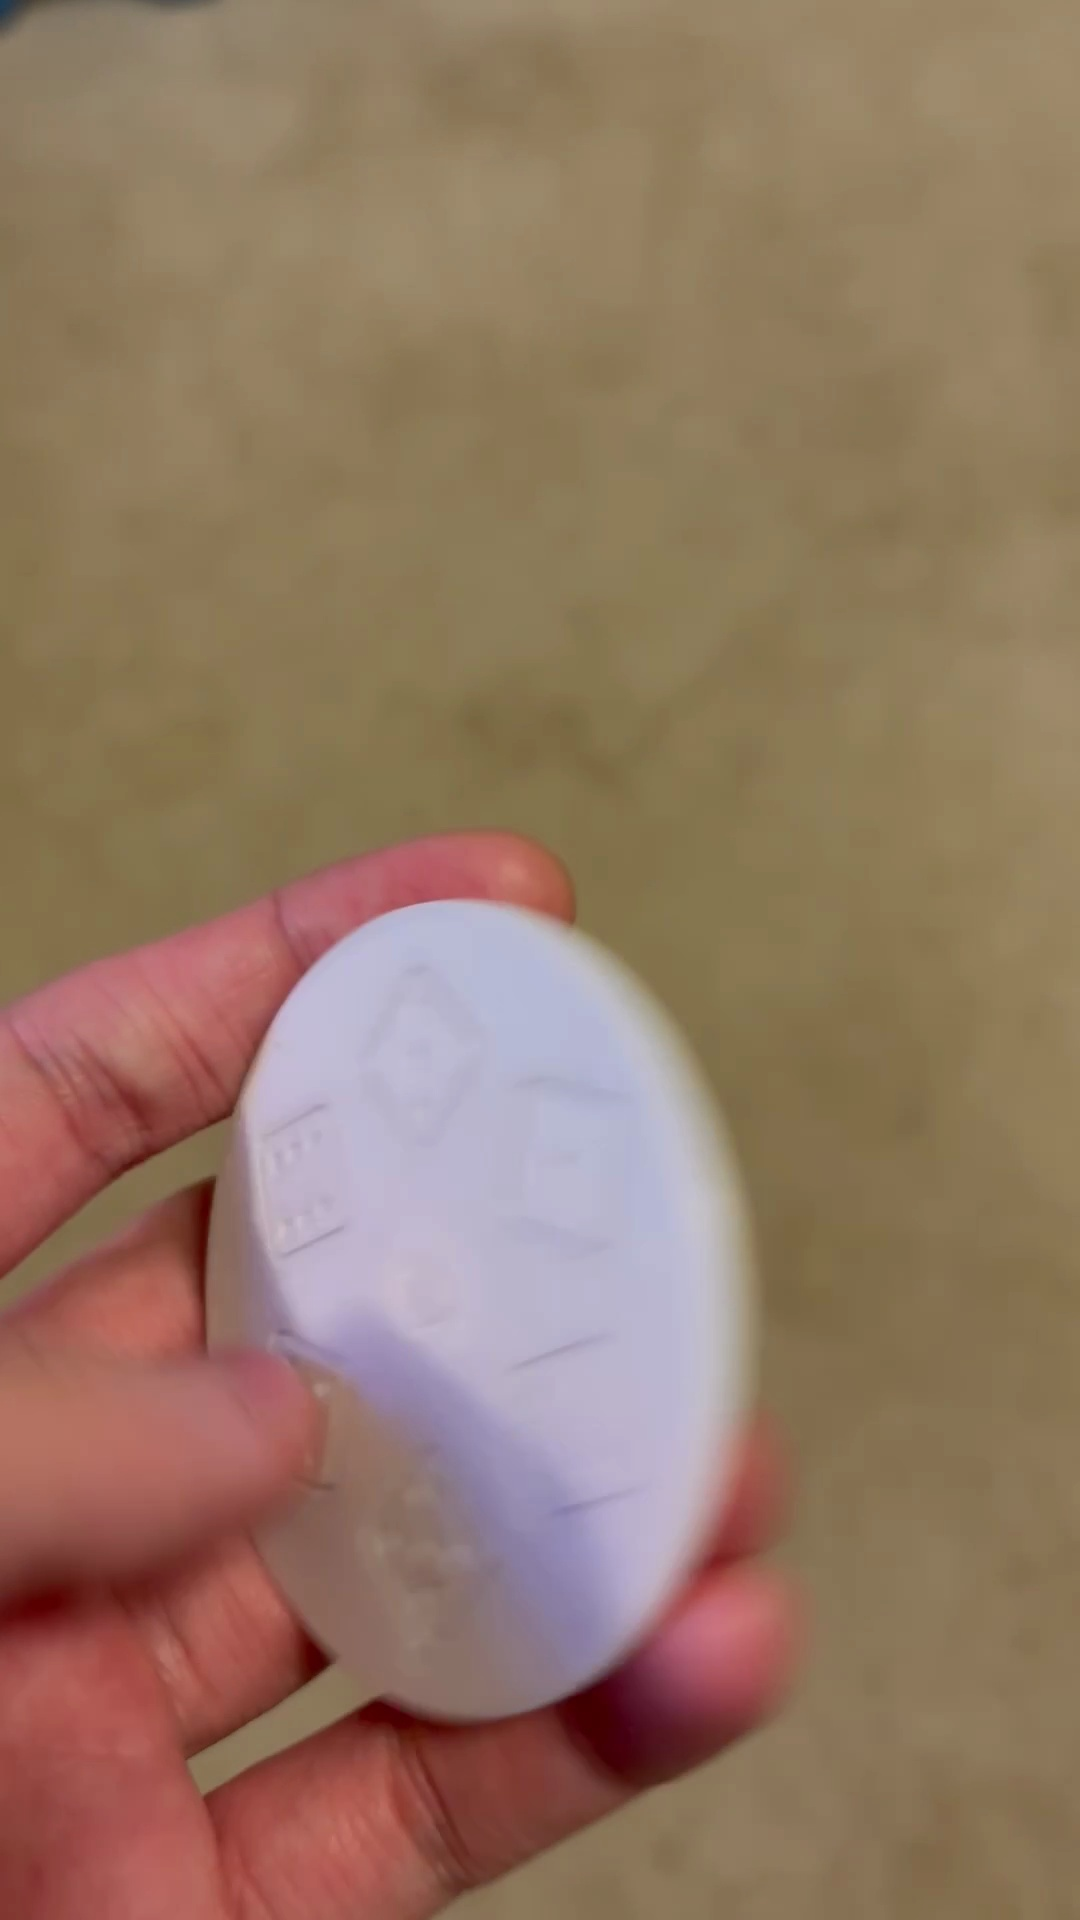Part1: (206, 902, 751, 1721)
